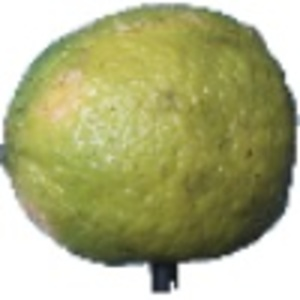limão: (1, 4, 300, 294)
